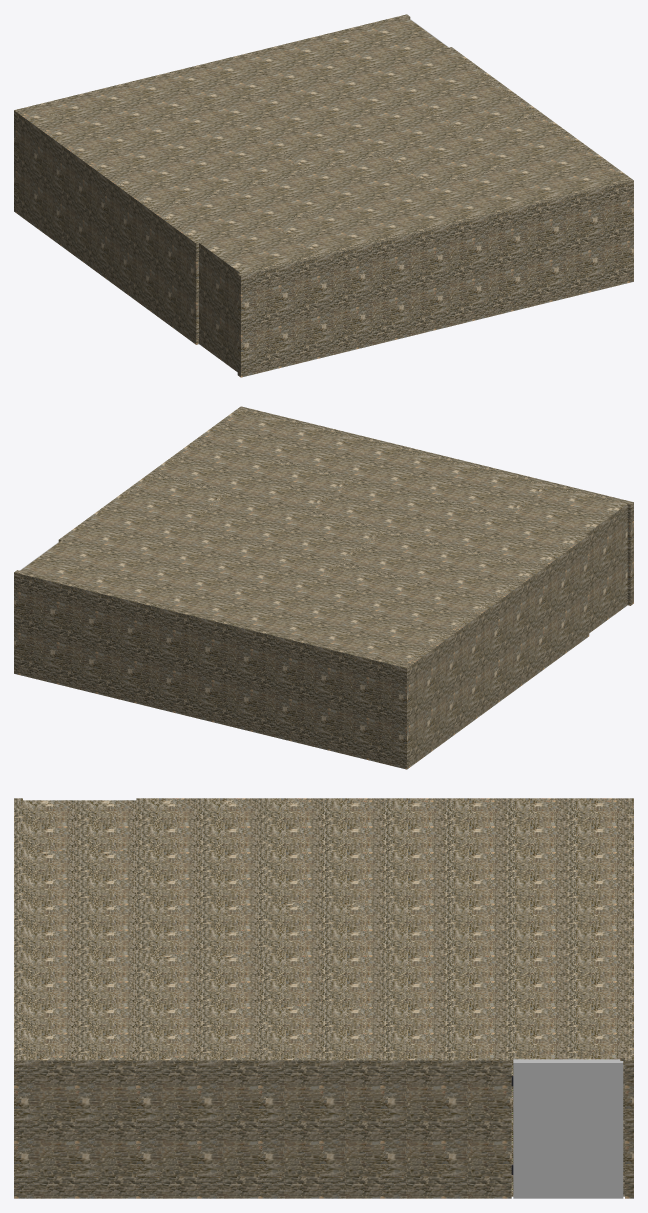
File: Maze_5x5_B.fbx
3 views of the same model, one above another, from view 1: azimuth 30°, elevation 25°; view 2: azimuth 150°, elevation 25°; view 3: azimuth 270°, elevation 25° (orthographic). The views are drawn at different scales.
Parts seen in each view (by area): view 1: Maze_Roof, Maze_Walls; view 2: Maze_Roof, Maze_Walls; view 3: Maze_Roof, Maze_Walls, Exit_Door, Maze_Floor.
Part boxes in pixels (box(x1,y1,x2,y2)): Maze_Roof: box(19, 16, 619, 270); Maze_Walls: box(14, 14, 633, 377); Maze_Roof: box(19, 412, 619, 666); Maze_Walls: box(14, 406, 633, 769); Maze_Roof: box(27, 800, 629, 1058); Maze_Walls: box(14, 798, 633, 1198); Exit_Door: box(511, 1059, 623, 1198); Maze_Floor: box(511, 1058, 620, 1196).
Bounding box in the file's own units: 10.15 × 2.5 × 10.15.
